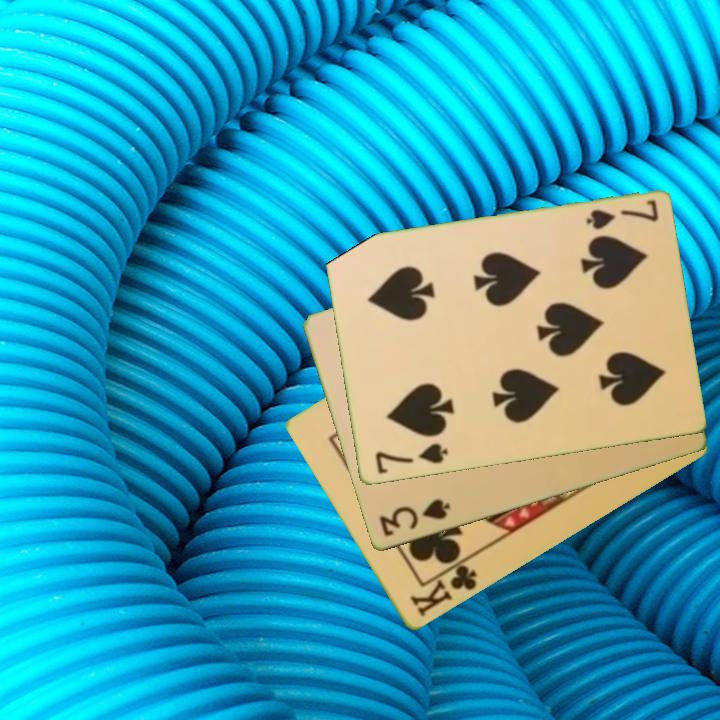3s: (375, 496, 453, 540)
7s: (371, 440, 450, 477), (582, 196, 661, 233)
Kc: (406, 554, 481, 621)
